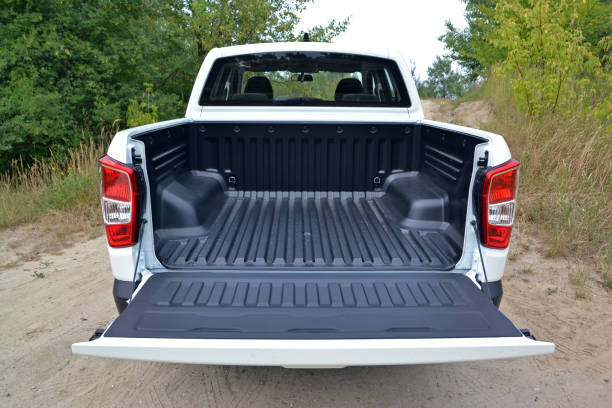Truck: (71, 33, 554, 368)
